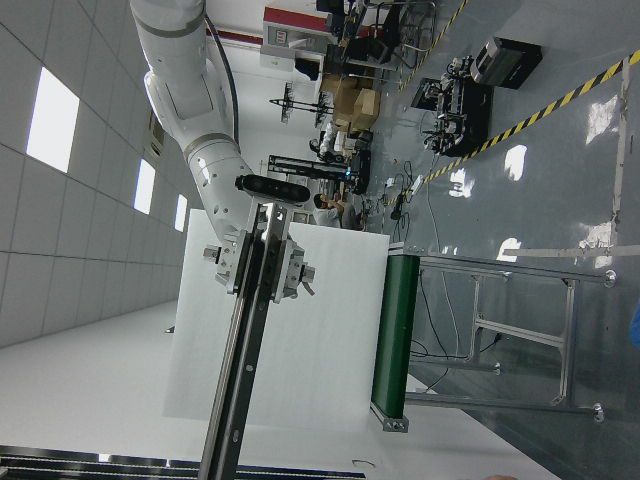right: (198, 198, 292, 478)
